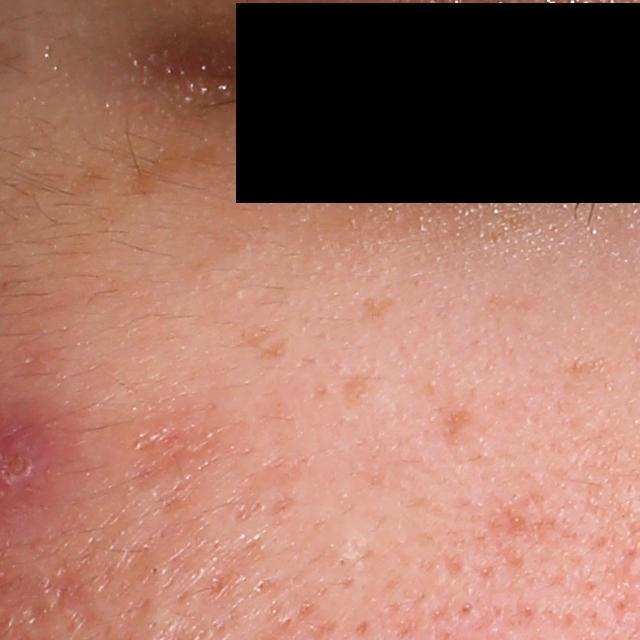melasma: (123, 141, 217, 200), (334, 366, 388, 417), (64, 157, 118, 200), (235, 323, 288, 363), (358, 295, 396, 320)
